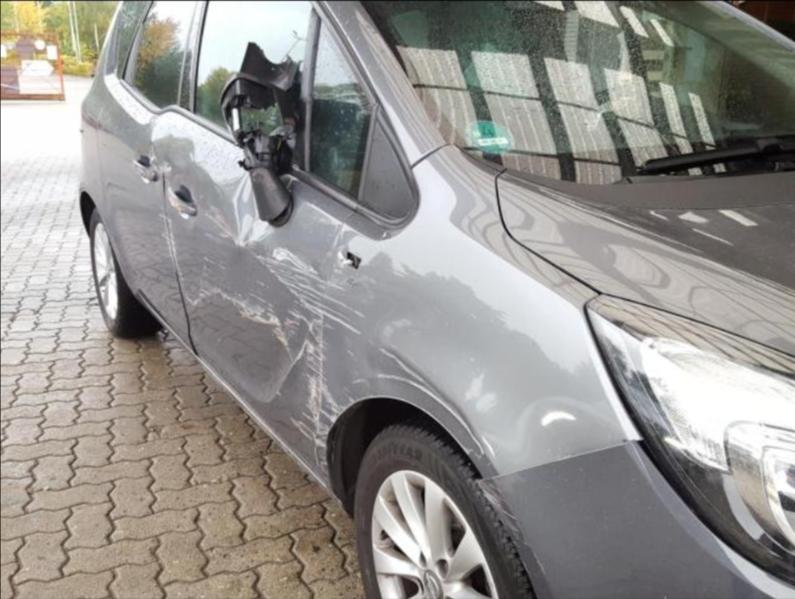Dent: (184, 287, 325, 422), (153, 126, 271, 252)
Scratch: (157, 195, 550, 579)
broken_mirror: (214, 37, 306, 229)
